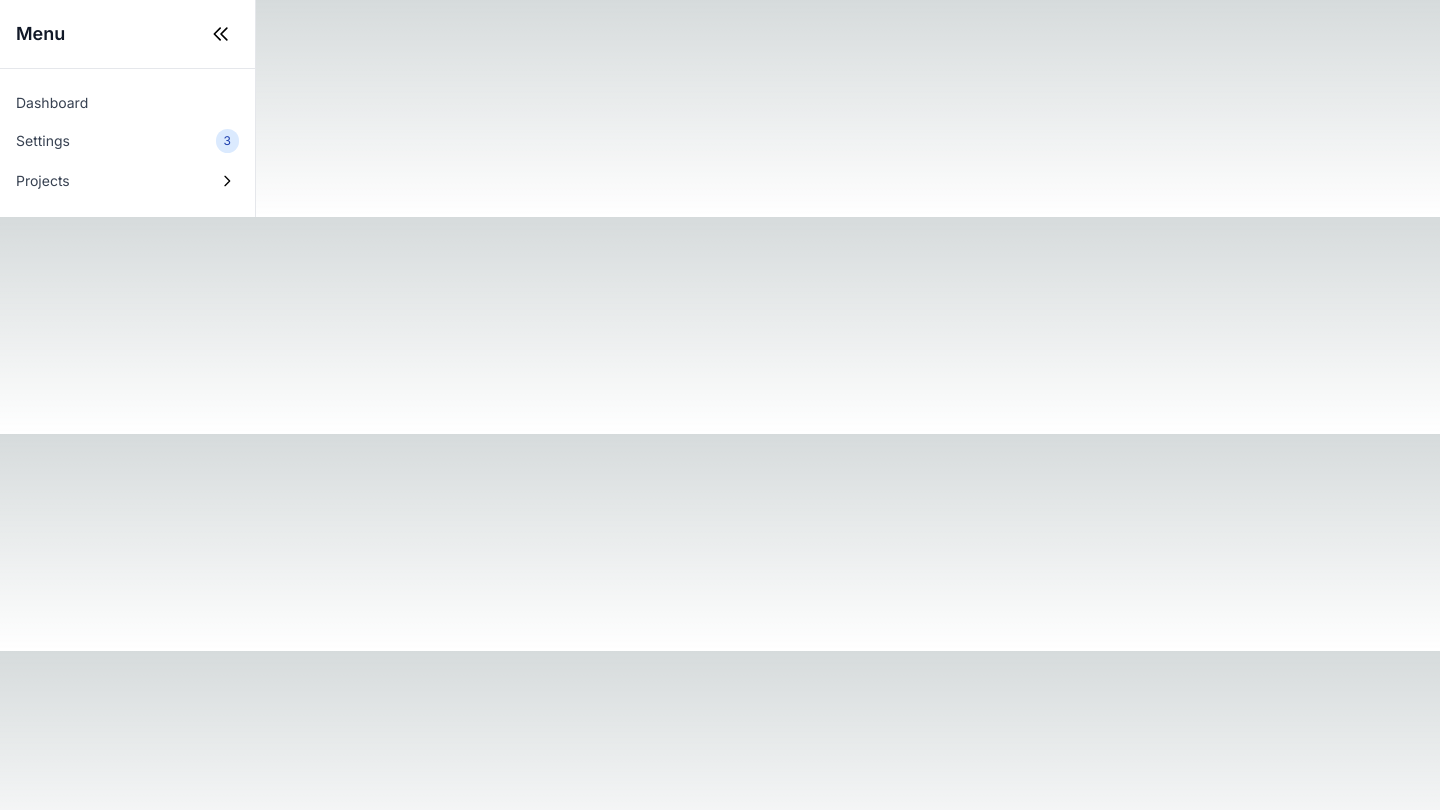
Sidebar › expands nested items when clicked
The image size is (1440, 810).
Expected: the text "Active" is not shown
Click the 2nd button. click: coordinates (227, 181)
box: [215, 169, 239, 193]
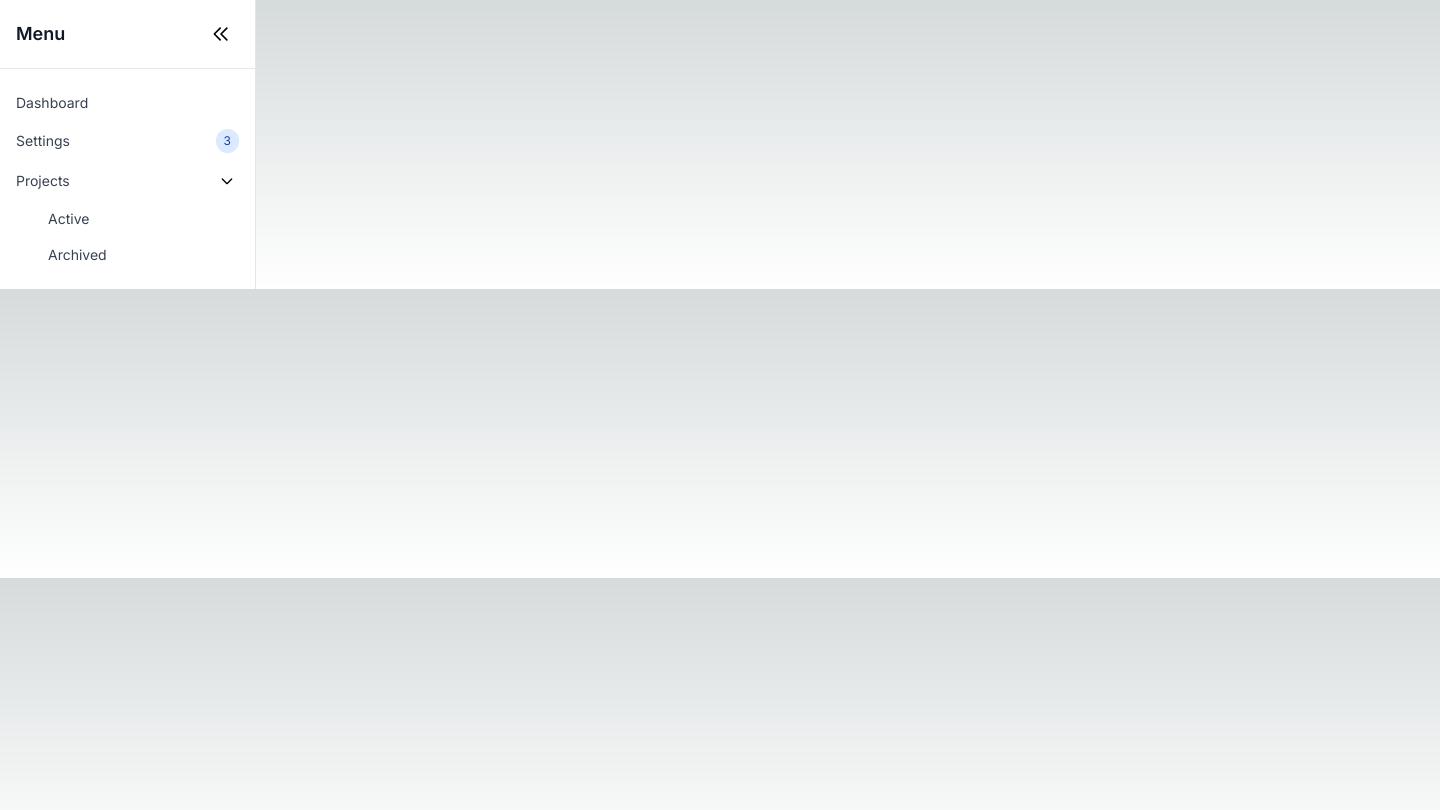
Expected: the text "Active" is shown, [48, 209, 89, 229]
Expected: the text "Archived" is shown, [48, 245, 107, 265]
